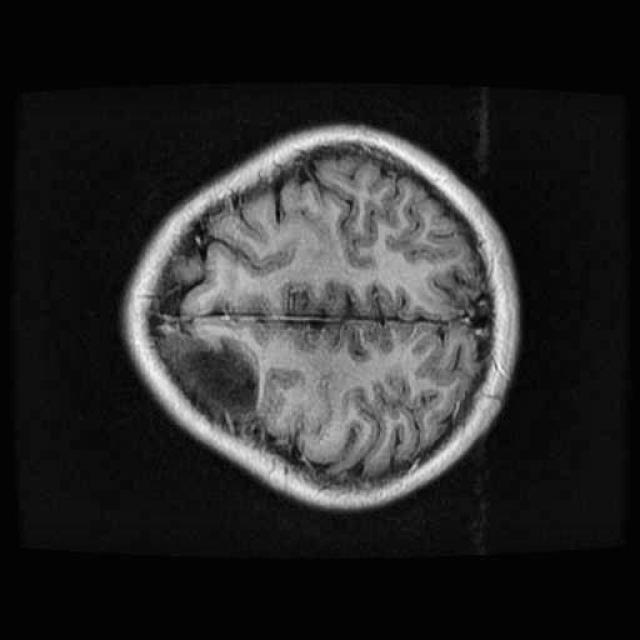Non-Tumor: (135, 316, 274, 431)
